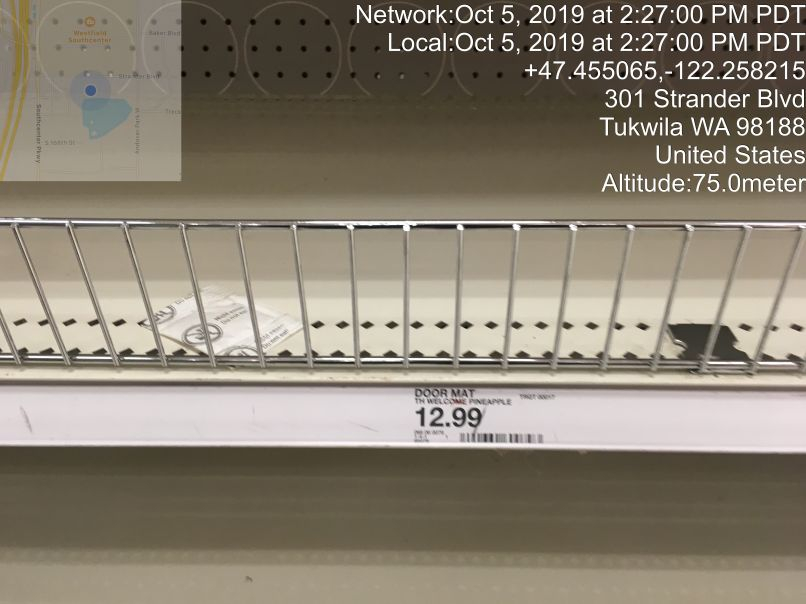Label: (407, 381, 569, 453)
Location: (595, 81, 806, 170)
Time: (349, 1, 806, 58)
Void: (19, 17, 798, 349)
